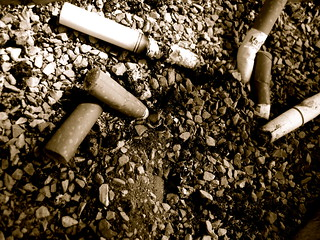cigarette: (57, 1, 206, 70), (229, 1, 290, 85), (40, 101, 105, 168), (258, 92, 319, 148), (82, 72, 151, 121), (255, 50, 273, 123)
